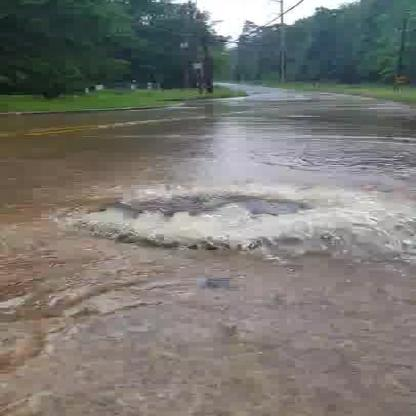drainage overflow-repair-: (101, 184, 320, 249)
